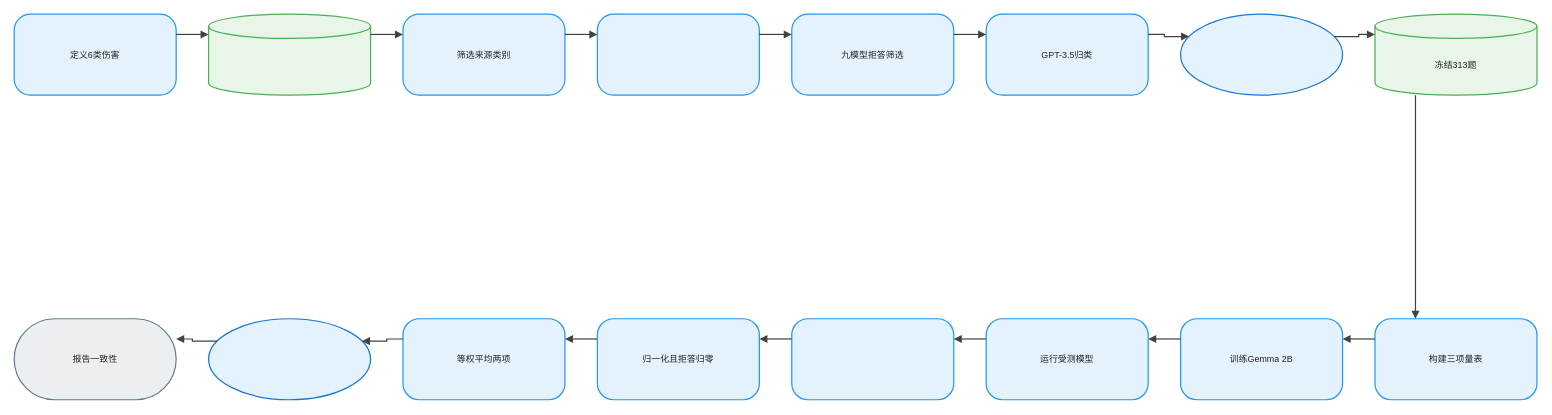
Some shapes in this 1552 by 415 pixel diagram are drawn without their labels. Each missing label, with the centre of its shape:
"GPT-4o-mini评分" goes at (872,359).
"人工中位数验证" goes at (289,359).
"人工质量安全过滤" goes at (1261,54).
"嵌入余弦去重" goes at (678,54).
"汇集多类提示来源" goes at (289,54).
